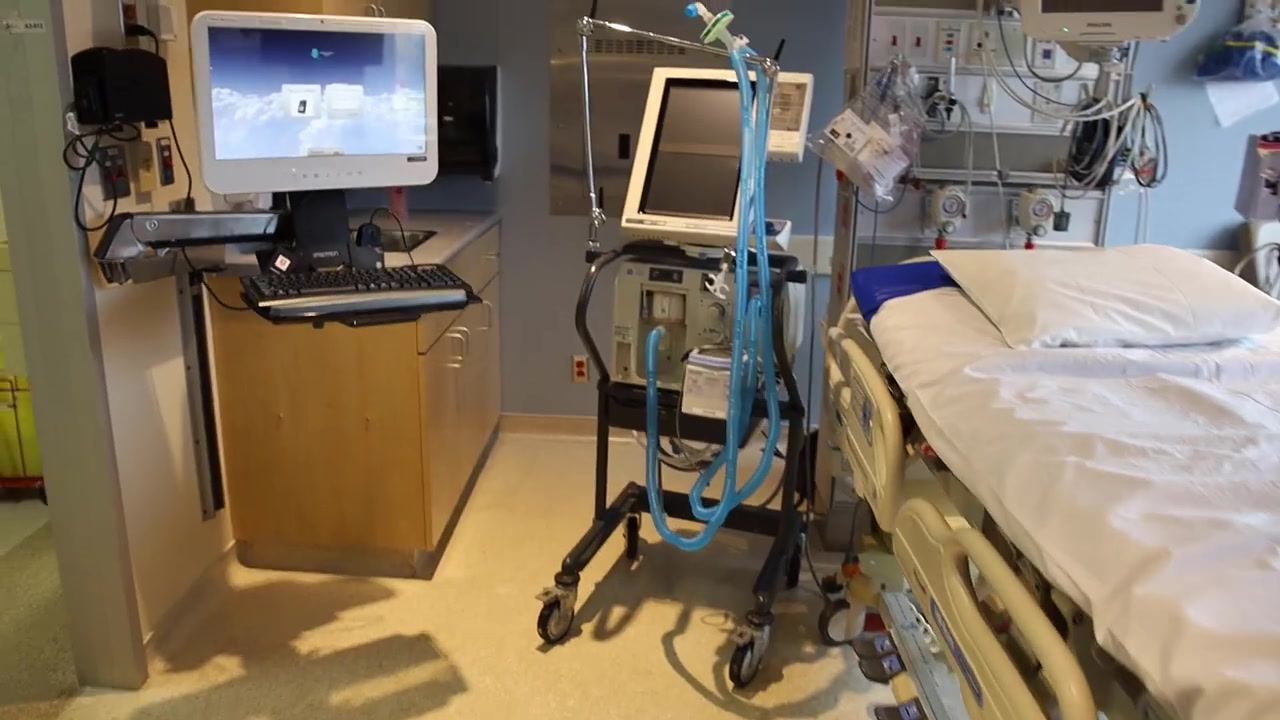bedrail: (893, 496, 1101, 720), (824, 325, 903, 534)
bedside_monitor: (433, 64, 504, 184), (1018, 1, 1199, 42)
breathing_tube: (643, 1, 782, 554)
computer: (190, 9, 440, 198)
counter: (198, 211, 507, 567)
countertop: (193, 211, 505, 281)
handle: (450, 321, 474, 363), (443, 330, 468, 369), (476, 300, 493, 332), (365, 4, 388, 17), (482, 251, 499, 264)
hospital_bed: (823, 244, 1280, 720)
keyboard: (239, 263, 473, 305)
sink: (380, 227, 437, 255)
ventilator: (604, 66, 815, 427)
